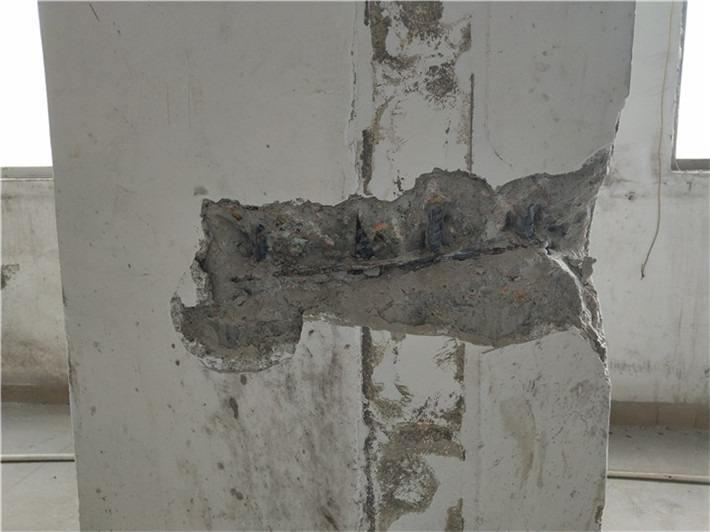Exposed reinforcement: (228, 239, 537, 284)
Spalling: (169, 141, 611, 387), (350, 1, 475, 197), (360, 326, 466, 532)
